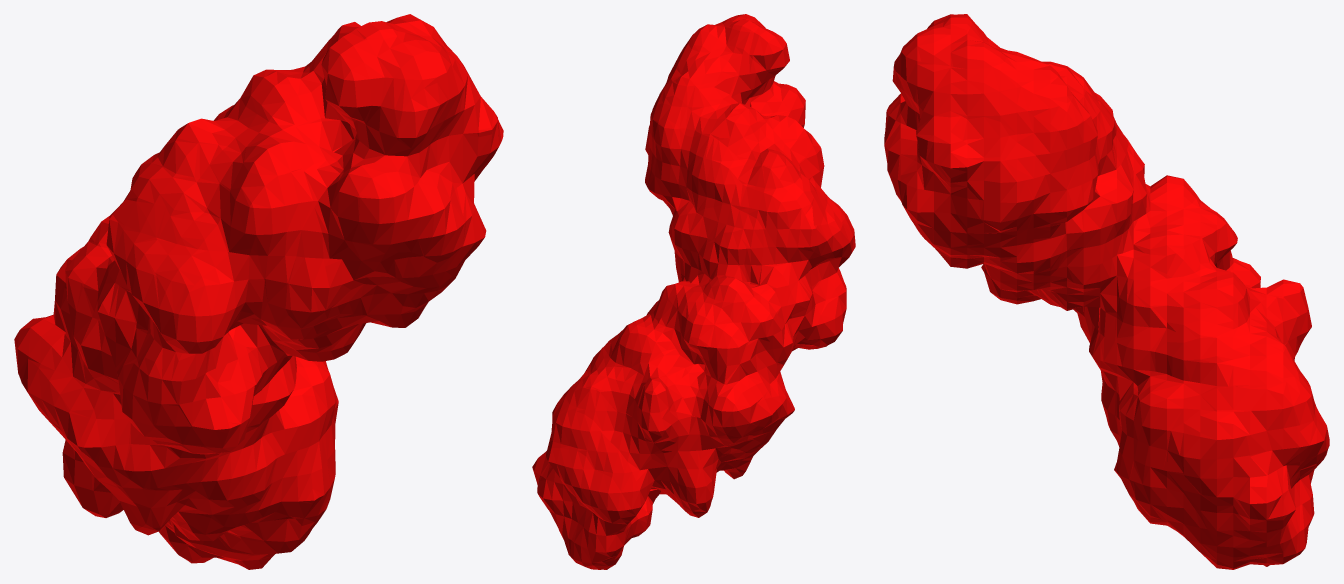
Rendered from epmA_coarse.dae.
The picture shows the model from 3 angles, left to right: view 1: azimuth 30°, elevation 25°; view 2: azimuth 150°, elevation 25°; view 3: azimuth 270°, elevation 25°; orthographic projection. The views are drawn at different scales.
Parts seen in each view (by area): view 1: epmA; view 2: epmA; view 3: epmA.
Part boxes in pixels (bbox=[...]): epmA: bbox=[14, 14, 503, 569]; epmA: bbox=[532, 14, 855, 569]; epmA: bbox=[884, 14, 1329, 569].
Size of the model in its own units: 70.13 by 143 by 107.
